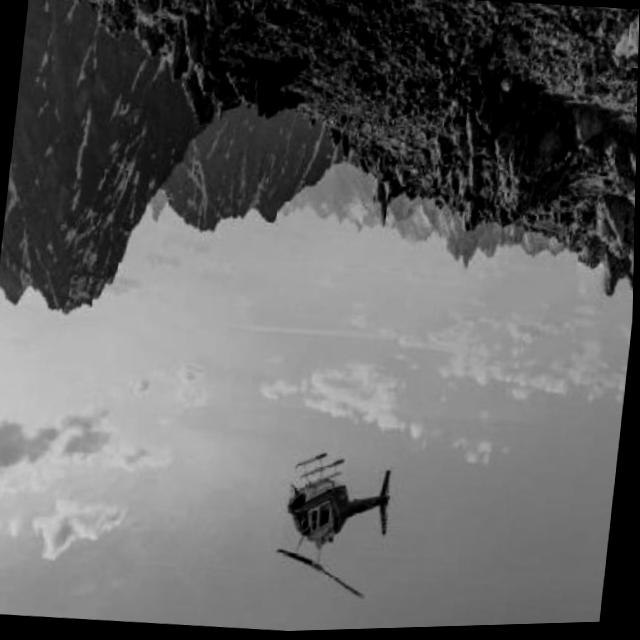helikopter: (266, 417, 413, 618)
